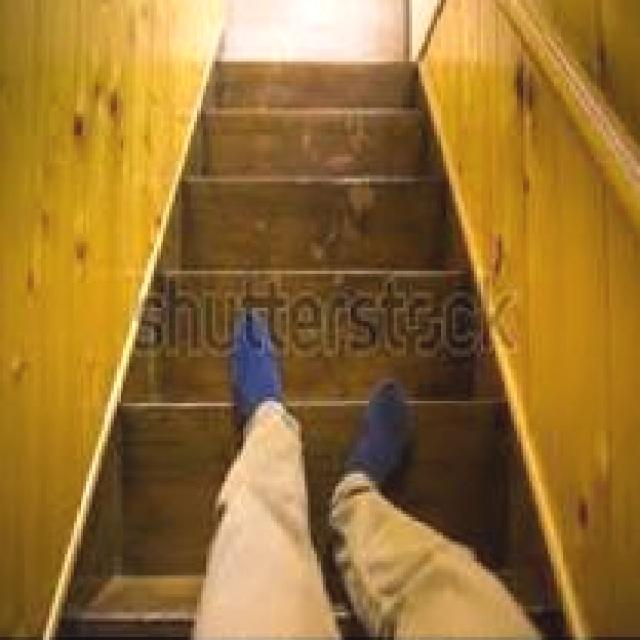downstair: (109, 238, 506, 459)
